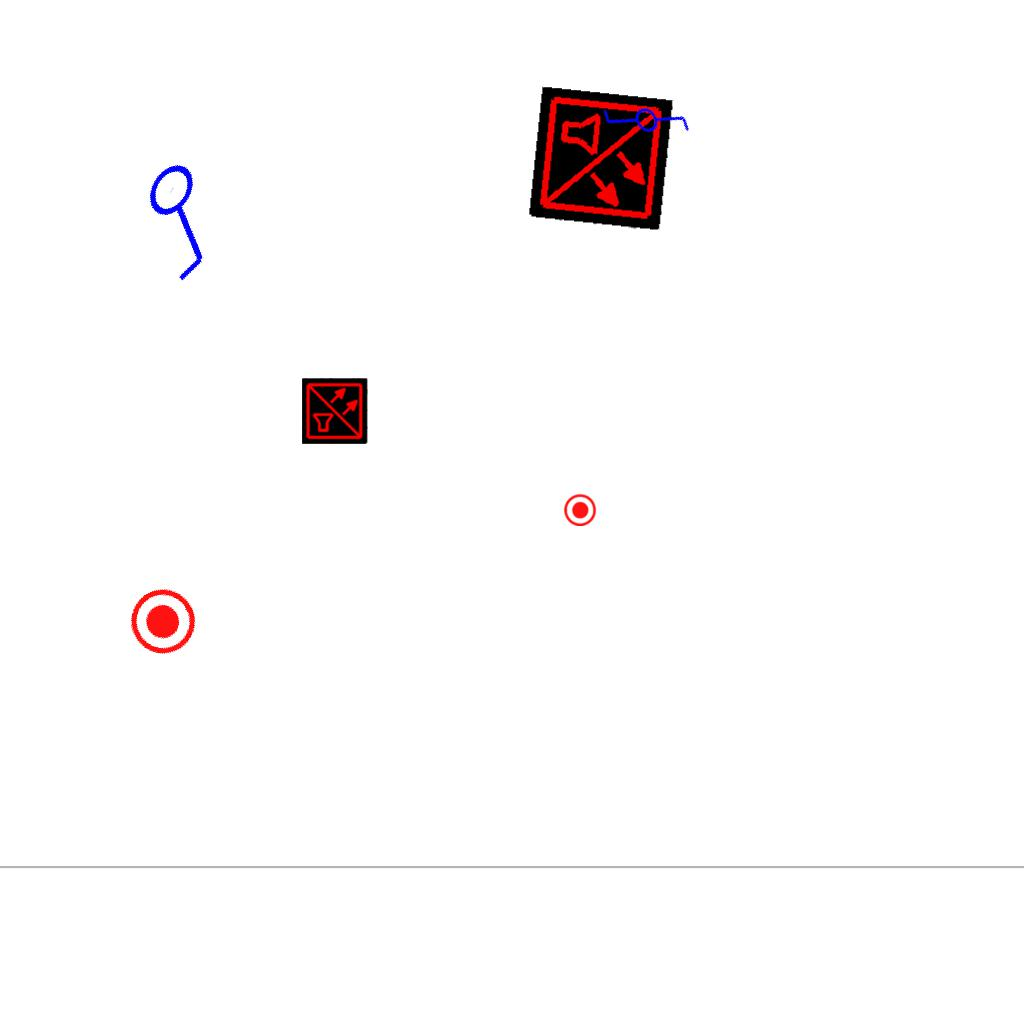Ausschalter: (113, 146, 255, 292)
OKW_Multisensormelder_(Kombination_optischer_Rauch-Kahlenmonoxid_Waerme-Melder): (528, 86, 674, 232), (302, 378, 368, 444)
Taster: (118, 578, 208, 668), (564, 493, 597, 526)
Wechselschalter: (596, 71, 700, 177)
